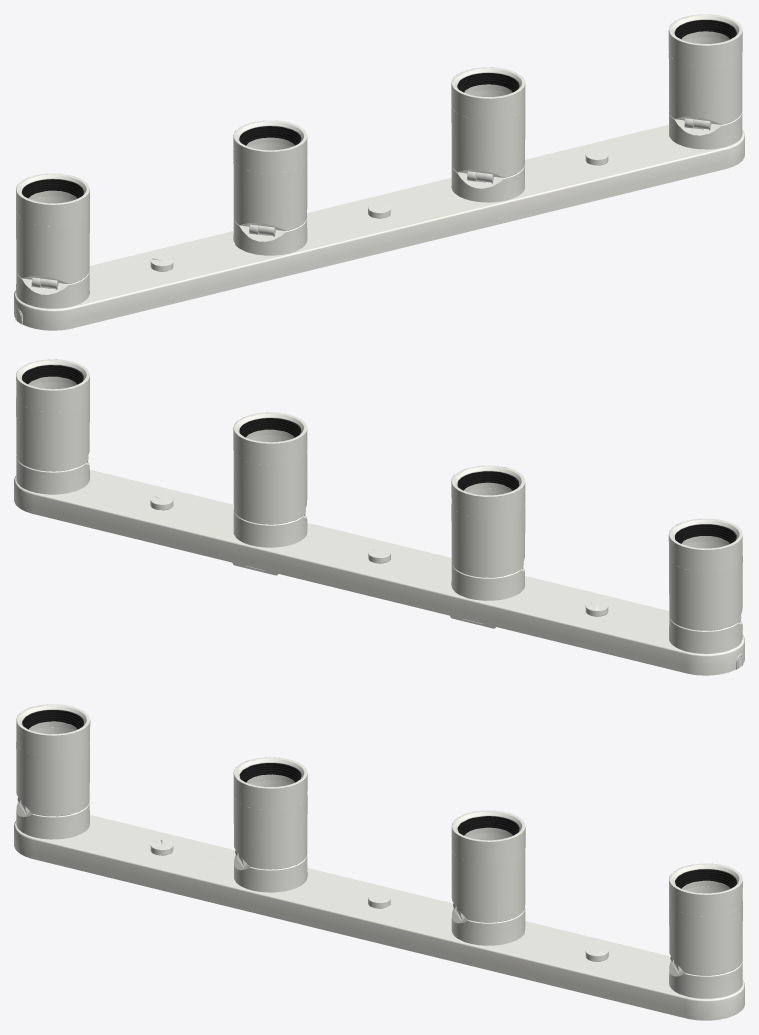
The model's file is nymane_oswietlenie_sufitowe_4_reflektory_70337701.glb.
The picture shows the model from 3 angles, top to bottom: view 1: azimuth 30°, elevation 25°; view 2: azimuth 150°, elevation 25°; view 3: azimuth 330°, elevation 25°; orthographic projection.
Visible parts, largest first — view 1: nymane_oswietlenie_sufitowe_4_reflektory_70337701; view 2: nymane_oswietlenie_sufitowe_4_reflektory_70337701; view 3: nymane_oswietlenie_sufitowe_4_reflektory_70337701.
Part boxes in pixels (x1,y1,x2,y2): nymane_oswietlenie_sufitowe_4_reflektory_70337701: (14, 14, 744, 330); nymane_oswietlenie_sufitowe_4_reflektory_70337701: (14, 359, 744, 675); nymane_oswietlenie_sufitowe_4_reflektory_70337701: (14, 704, 744, 1020).
Size of the model in its own units: 0.7345 by 0.1278 by 0.069.
1 material, 1 textured.
